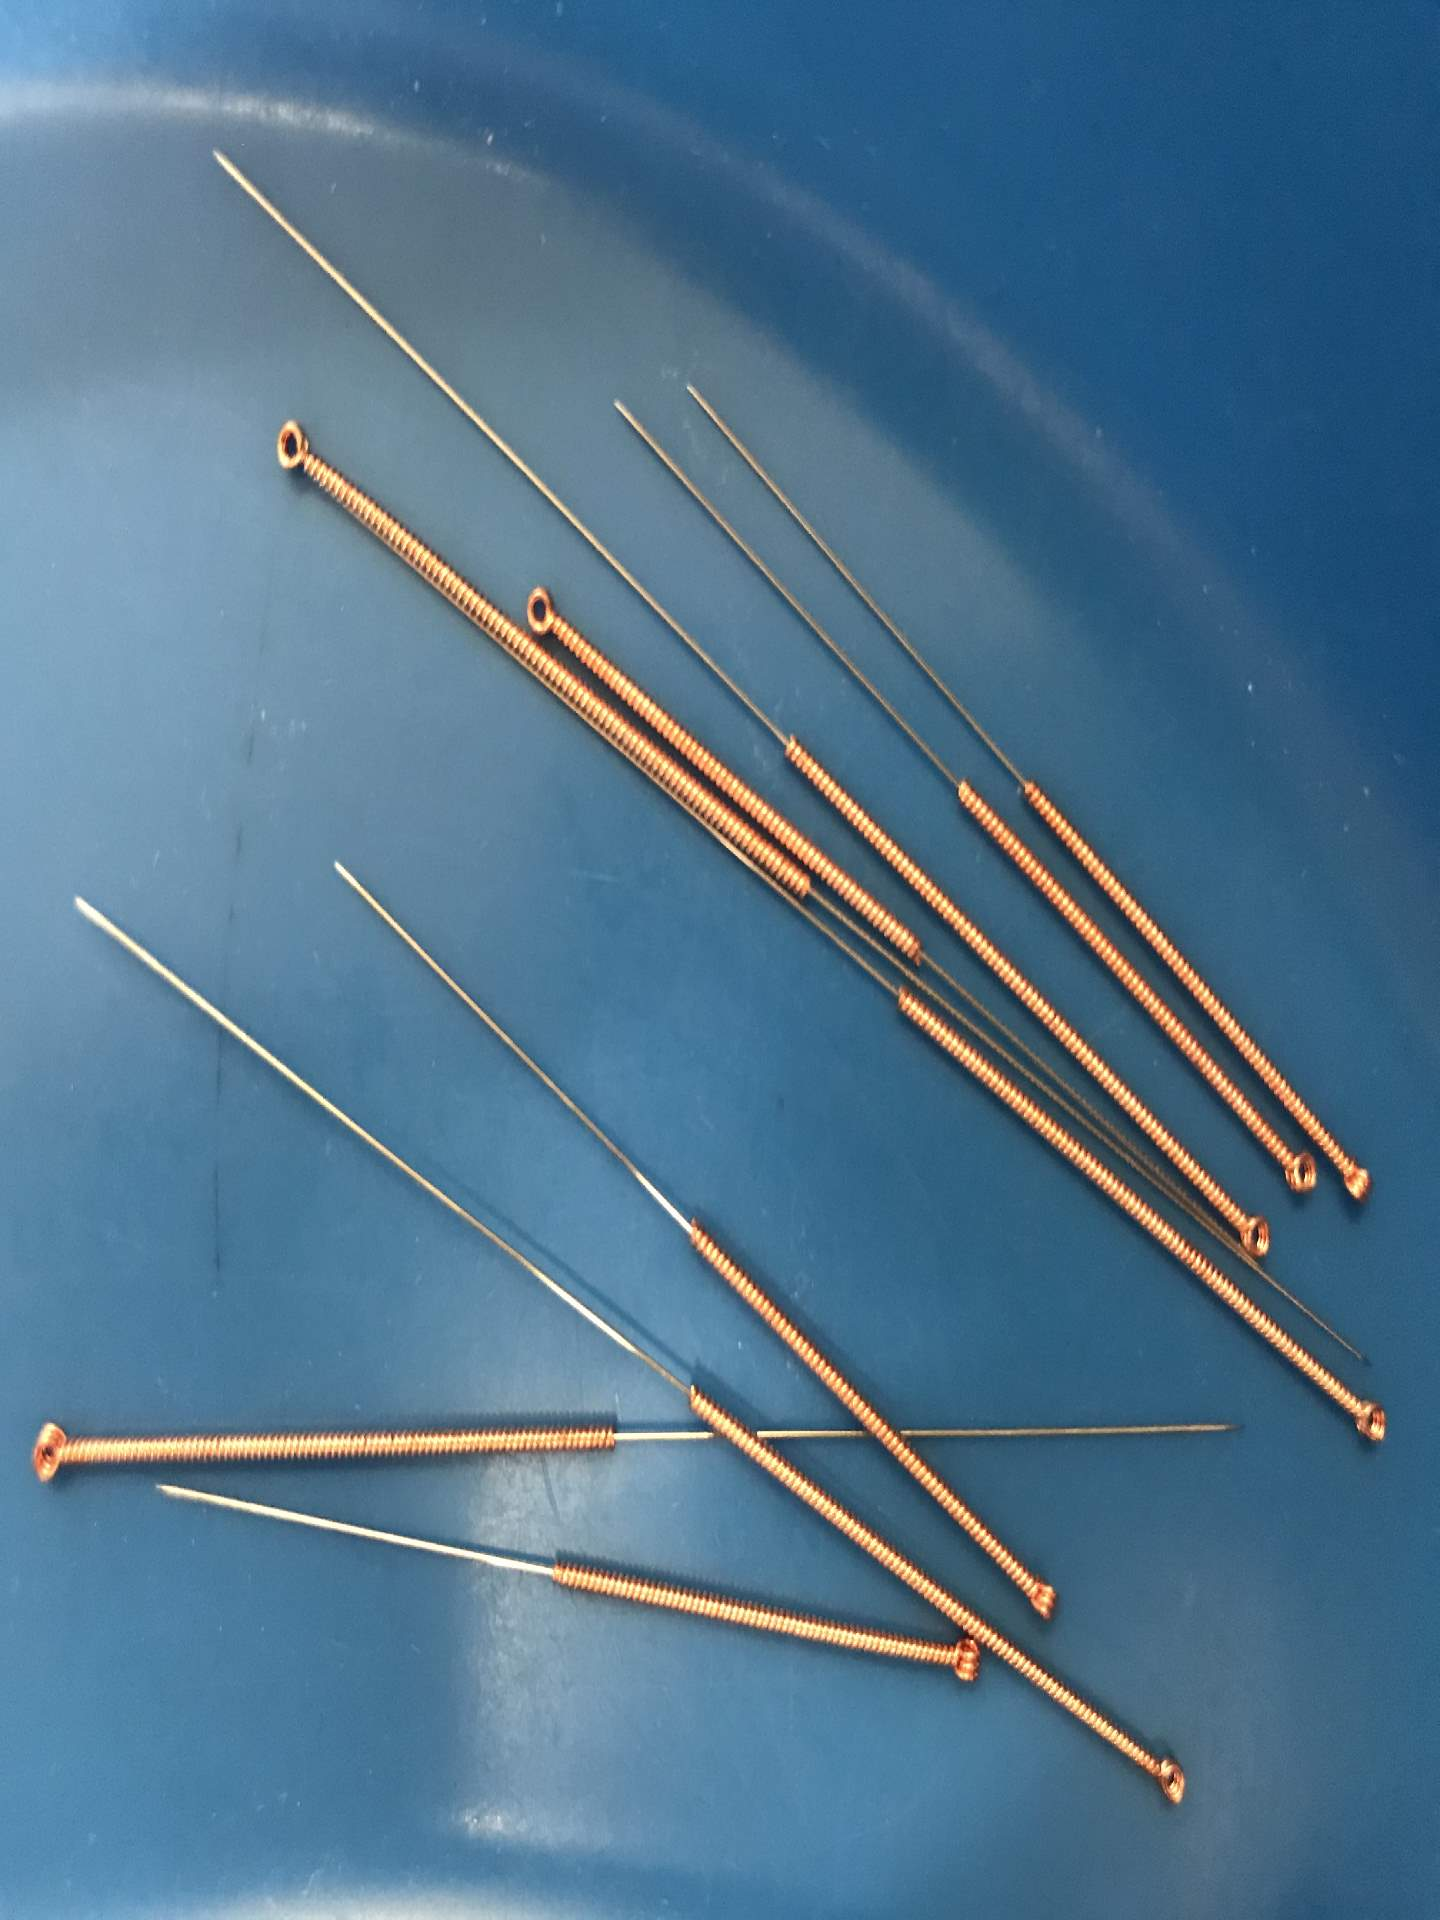needle: (253, 407, 334, 488), (17, 1409, 89, 1497), (1128, 1739, 1199, 1813), (1336, 1385, 1401, 1457), (920, 1630, 988, 1696), (1328, 1143, 1384, 1220), (1010, 1565, 1071, 1634), (1222, 1197, 1281, 1264), (1269, 1140, 1327, 1206), (517, 578, 569, 643)
